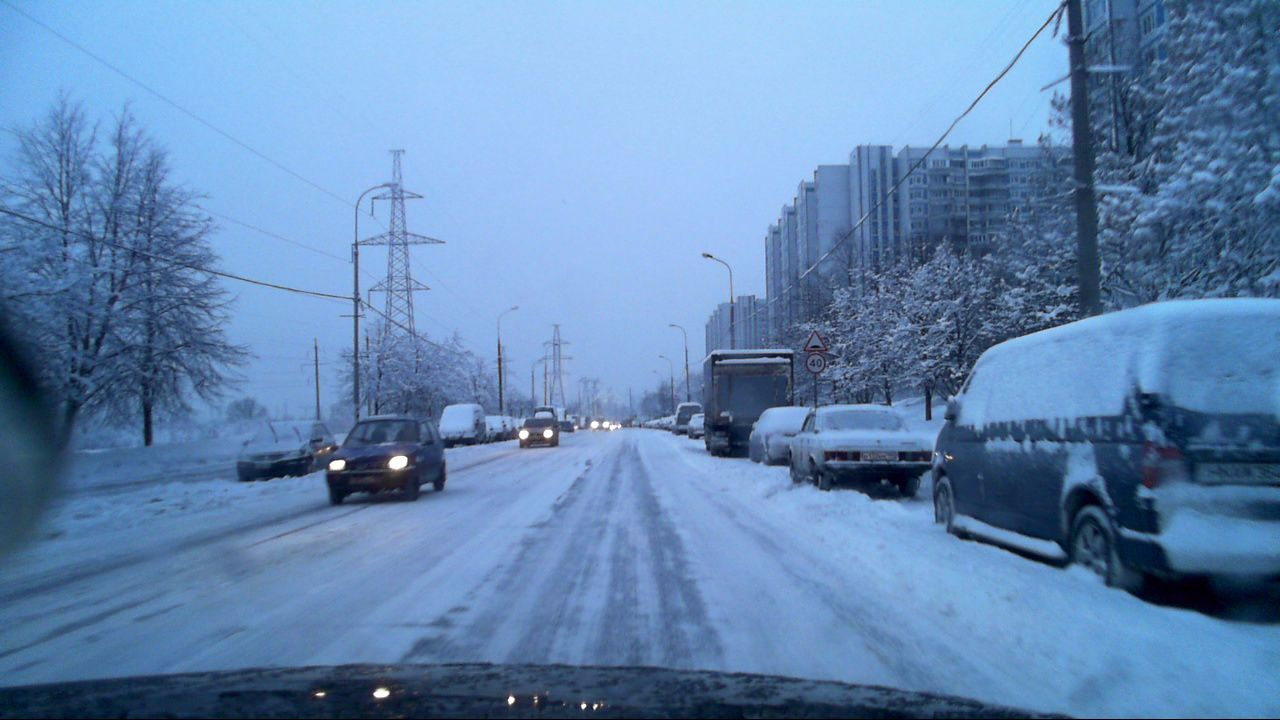speed_warning_40: (804, 351, 827, 372)
